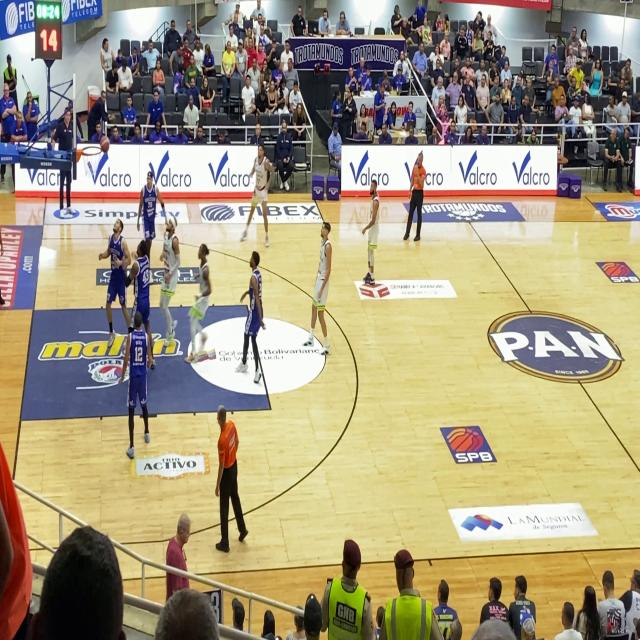Ball: (99, 135, 111, 155)
referee: (213, 407, 246, 553), (409, 153, 425, 242)
team1: (248, 142, 270, 243), (316, 222, 332, 360), (164, 217, 178, 336), (196, 240, 209, 356), (365, 182, 378, 290)
team2: (128, 313, 150, 442), (244, 248, 262, 389), (107, 218, 130, 316), (134, 239, 152, 310), (142, 170, 157, 240)
ubasket: (81, 142, 103, 178)
